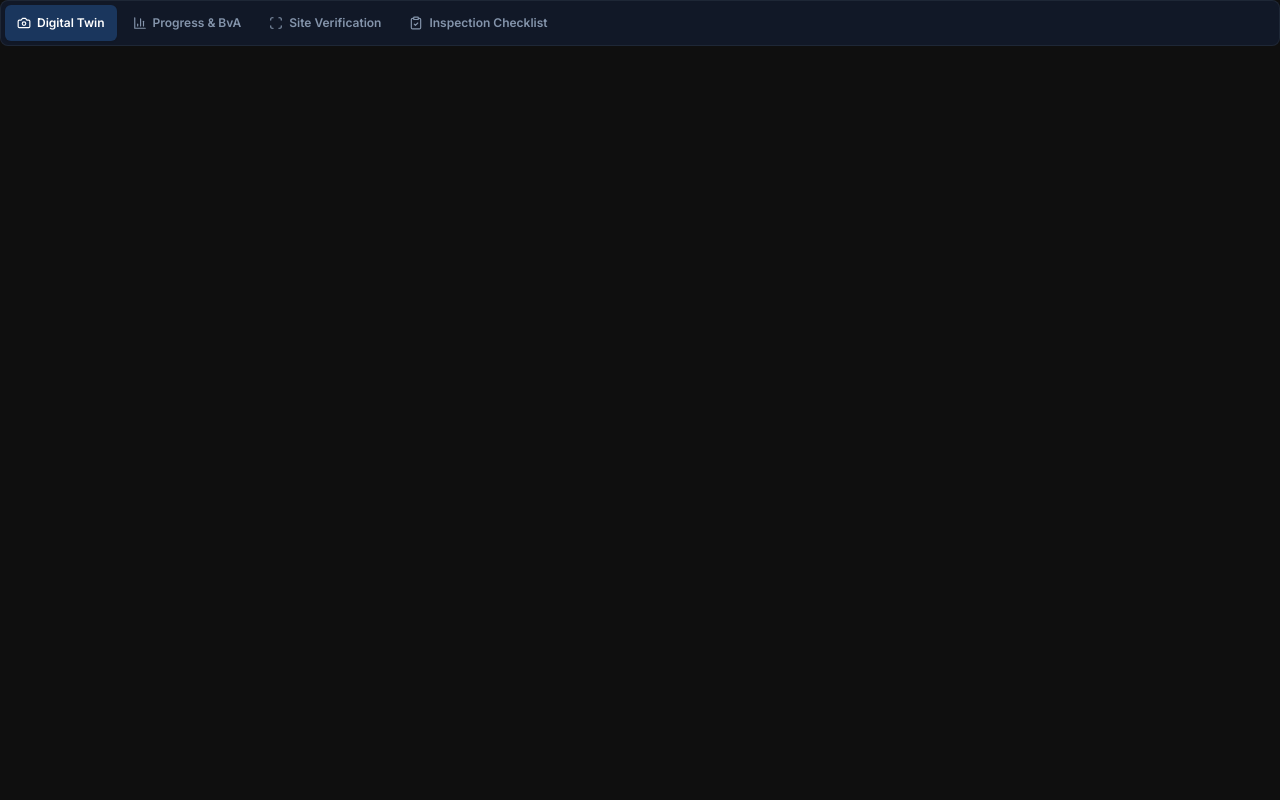
Test: P3DigitalTwinStage › switches to verification tab
Click the button "Site Verification".
click(325, 23)  # box [257,5,393,40]
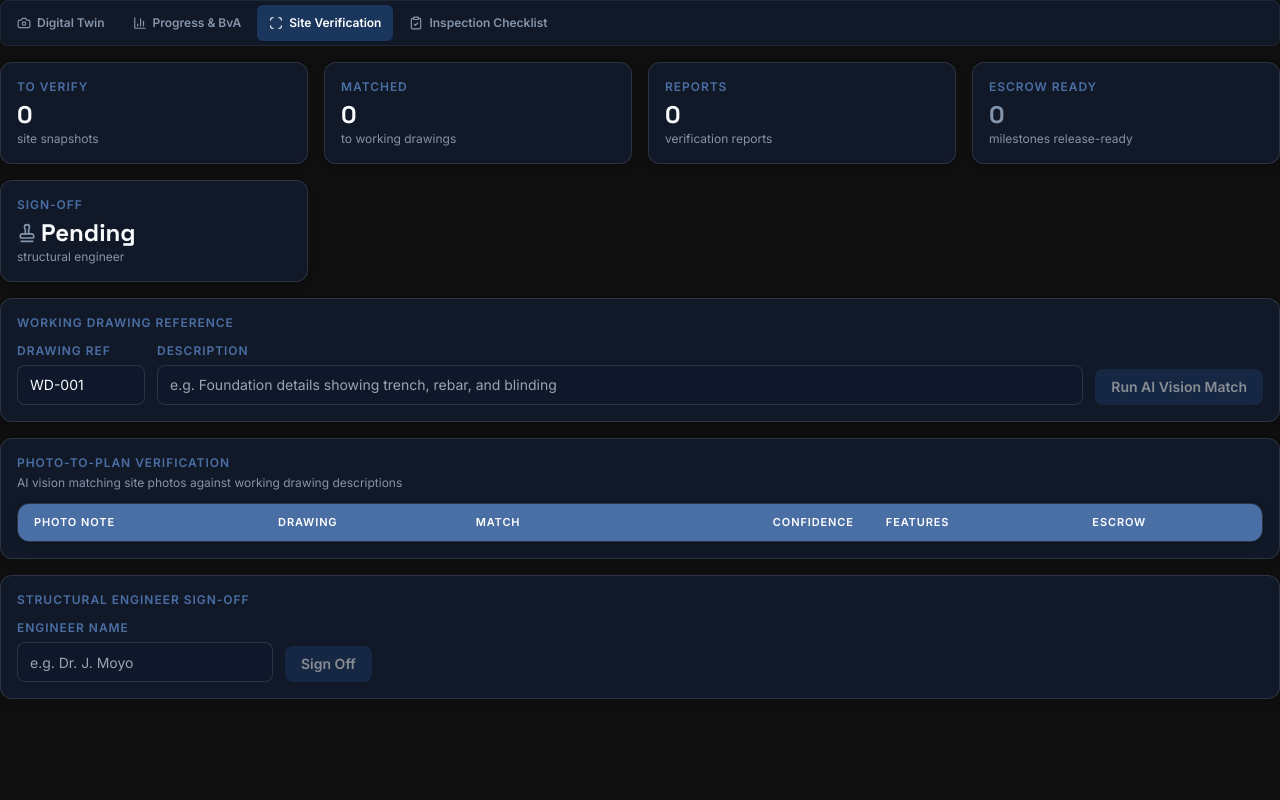
Check: the text "To Verify" is shown, box [17,78,88,94]
